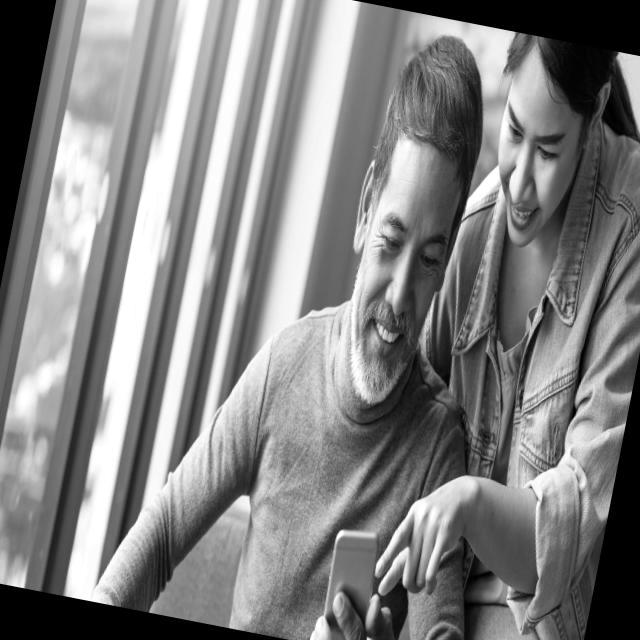phone: (314, 525, 382, 640)
